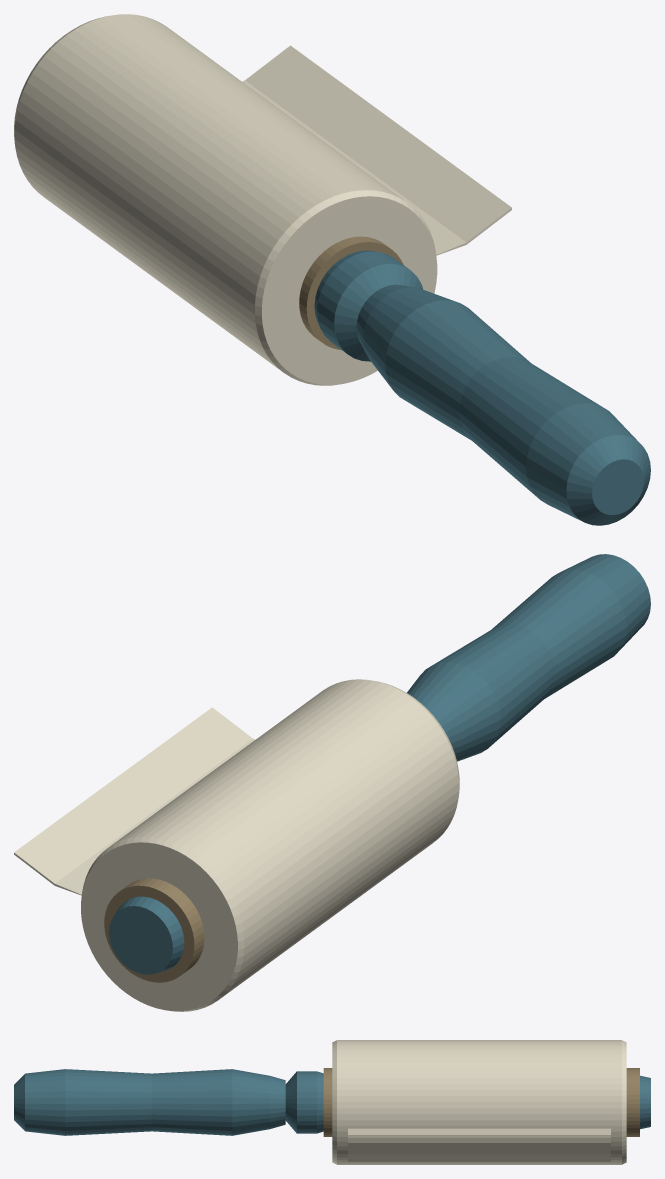
3 views of the same model, one above another, from view 1: azimuth 30°, elevation 25°; view 2: azimuth 150°, elevation 25°; view 3: azimuth 270°, elevation 25° (orthographic). The views are drawn at different scales.
Visible parts, largest first — view 1: WholeThickAnnularPaperRoll, WholeLongCoaxialWaistedGrip, WholeCurvedOuterSheetAndFreePeelEdge, WholeContinuousInsertedSpindle, WholeOpenEndedTubularCore; view 2: WholeThickAnnularPaperRoll, WholeLongCoaxialWaistedGrip, WholeCurvedOuterSheetAndFreePeelEdge, WholeContinuousInsertedSpindle, WholeOpenEndedTubularCore; view 3: WholeThickAnnularPaperRoll, WholeLongCoaxialWaistedGrip, WholeCurvedOuterSheetAndFreePeelEdge, WholeContinuousInsertedSpindle, WholeOpenEndedTubularCore.
Boxes of the visible parts, x1=… form: WholeThickAnnularPaperRoll: x1=14, y1=14, x2=437, y2=385; WholeLongCoaxialWaistedGrip: x1=356, y1=284, x2=650, y2=525; WholeCurvedOuterSheetAndFreePeelEdge: x1=242, y1=45, x2=511, y2=255; WholeContinuousInsertedSpindle: x1=314, y1=250, x2=423, y2=361; WholeOpenEndedTubularCore: x1=299, y1=236, x2=403, y2=349; WholeThickAnnularPaperRoll: x1=81, y1=679, x2=459, y2=1011; WholeLongCoaxialWaistedGrip: x1=407, y1=554, x2=650, y2=761; WholeCurvedOuterSheetAndFreePeelEdge: x1=14, y1=707, x2=255, y2=895; WholeContinuousInsertedSpindle: x1=109, y1=896, x2=184, y2=974; WholeOpenEndedTubularCore: x1=104, y1=878, x2=204, y2=982; WholeThickAnnularPaperRoll: x1=332, y1=1040, x2=626, y2=1164; WholeLongCoaxialWaistedGrip: x1=14, y1=1069, x2=285, y2=1135; WholeCurvedOuterSheetAndFreePeelEdge: x1=348, y1=1128, x2=610, y2=1161; WholeContinuousInsertedSpindle: x1=285, y1=1071, x2=650, y2=1133; WholeOpenEndedTubularCore: x1=323, y1=1068, x2=639, y2=1136.
Size of the model in its own units: 0.082 by 0.0559 by 0.286.
